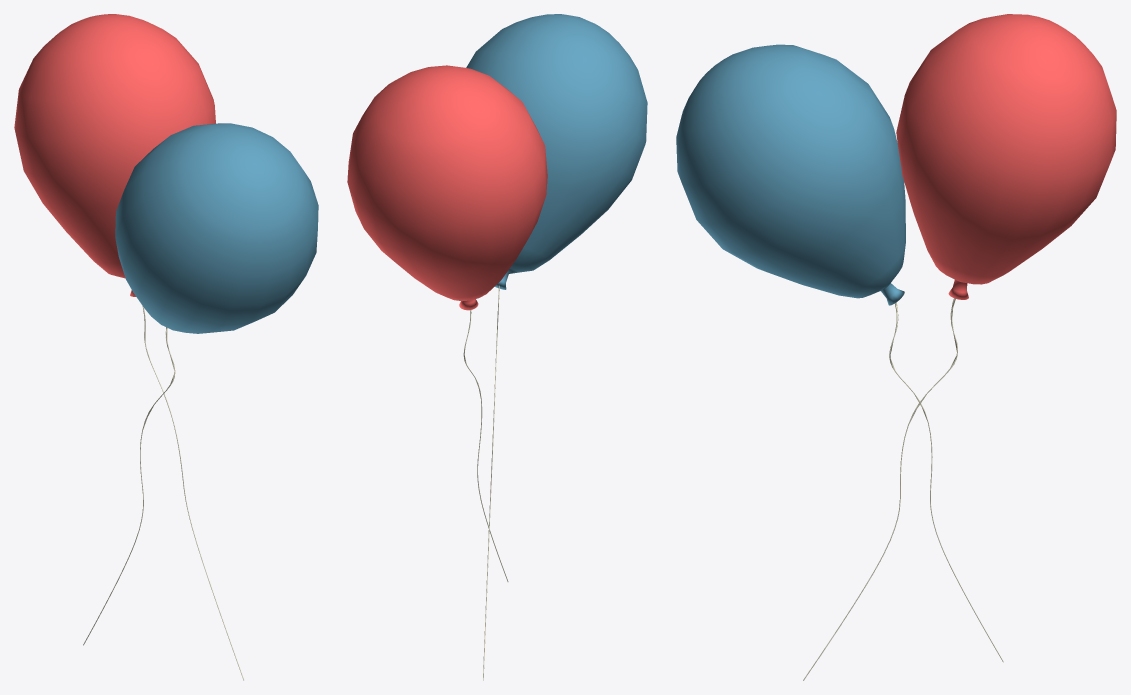
File: globos.fbx
3 renders of one model, left to right at view 1: azimuth 30°, elevation 25°; view 2: azimuth 150°, elevation 25°; view 3: azimuth 270°, elevation 25°, orthographic. The views are drawn at different scales.
Visible parts, largest first — view 1: polySurface1; view 2: polySurface1; view 3: polySurface1.
Boxes of the visible parts, left/top/right/bottom form: polySurface1: left=14, top=14, right=318, bottom=680; polySurface1: left=347, top=14, right=647, bottom=680; polySurface1: left=676, top=14, right=1116, bottom=680.
Size of the model in its own units: 6.25 by 20.66 by 12.54.
